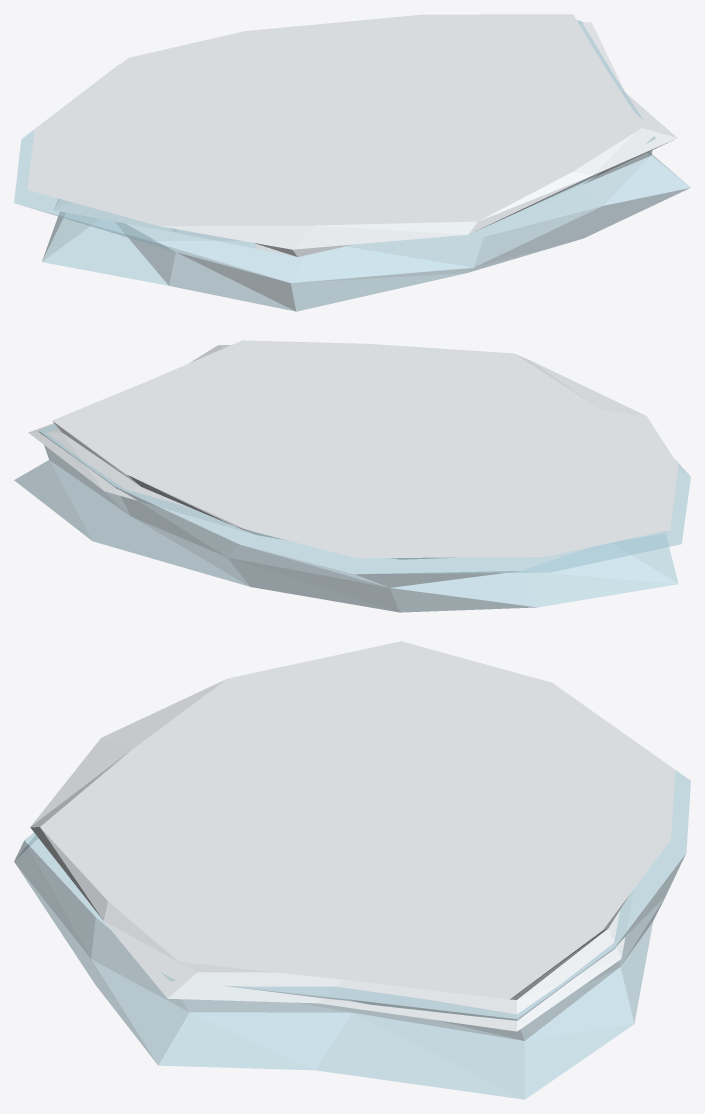
File: alpine-and-arctic-biomes-pack-ice-floe-1d75db11__21051.glb
The picture shows the model from 3 angles, top to bottom: view 1: azimuth 30°, elevation 25°; view 2: azimuth 150°, elevation 25°; view 3: azimuth 270°, elevation 25°; orthographic projection. The views are drawn at different scales.
Parts seen in each view (by area): view 1: pack-ice-floe; view 2: pack-ice-floe; view 3: pack-ice-floe.
Part boxes in pixels (bbox=[...]): pack-ice-floe: bbox=[14, 14, 690, 311]; pack-ice-floe: bbox=[14, 340, 690, 612]; pack-ice-floe: bbox=[14, 641, 690, 1099].
Size of the model in its own units: 4.32 by 0.4199 by 3.21.
